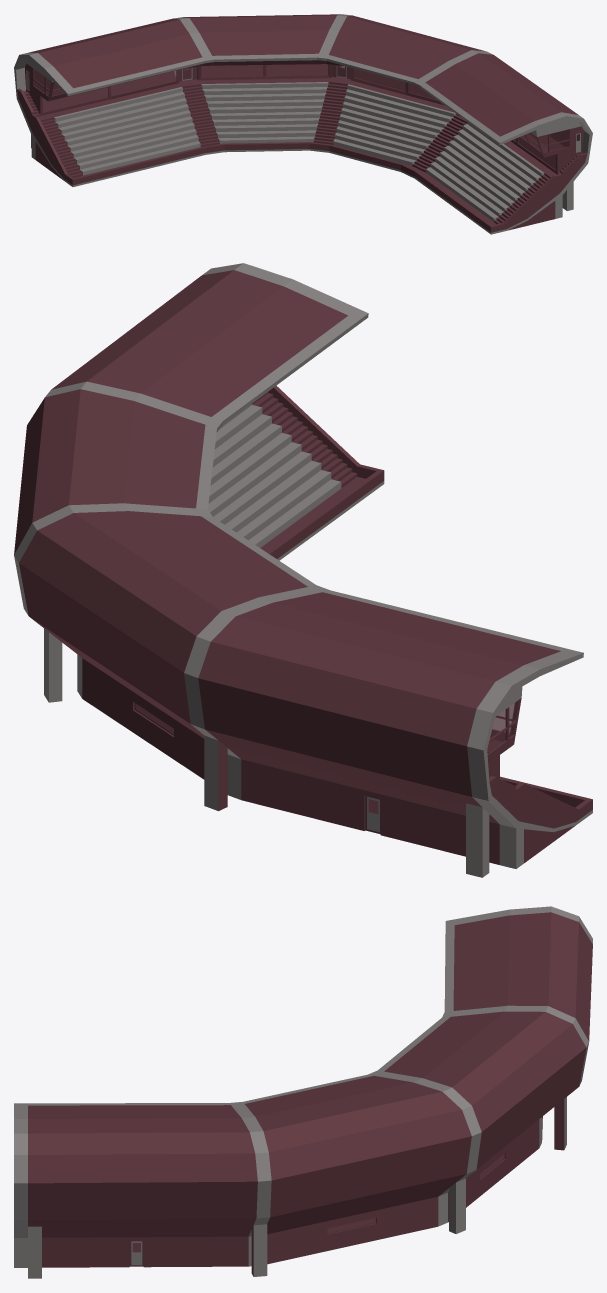
The model's file is tribune-curve.fbx.
The picture shows the model from 3 angles, top to bottom: view 1: azimuth 30°, elevation 25°; view 2: azimuth 150°, elevation 25°; view 3: azimuth 270°, elevation 25°; orthographic projection. The views are drawn at different scales.
Visible parts, largest first — view 1: tribune-curve; view 2: tribune-curve; view 3: tribune-curve.
Boxes of the visible parts, bbox=[...] form: tribune-curve: bbox=[14, 14, 592, 234]; tribune-curve: bbox=[14, 263, 592, 877]; tribune-curve: bbox=[14, 906, 592, 1278].
Bounding box in the file's own units: 41.52 × 10.84 × 41.52.
